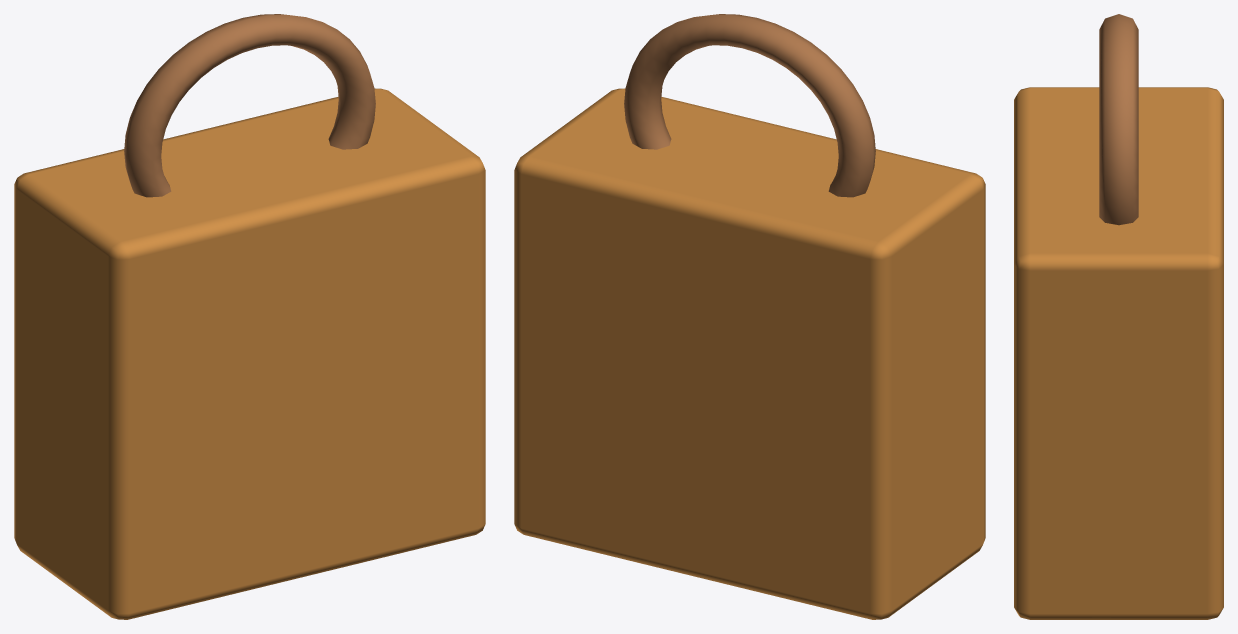
Rendered from wp-sac-de-courses-en-papier.glb.
3 views of the same model, side by side, from view 1: azimuth 30°, elevation 25°; view 2: azimuth 150°, elevation 25°; view 3: azimuth 270°, elevation 25° (orthographic). The views are drawn at different scales.
Parts seen in each view (by area): view 1: wp-sac-de-courses-en-papier; view 2: wp-sac-de-courses-en-papier; view 3: wp-sac-de-courses-en-papier.
Part boxes in pixels (x1=…): wp-sac-de-courses-en-papier: x1=14, y1=14, x2=485, y2=619; wp-sac-de-courses-en-papier: x1=514, y1=14, x2=985, y2=619; wp-sac-de-courses-en-papier: x1=1014, y1=14, x2=1223, y2=619.
Bounding box in the file's own units: 0.3 × 0.4 × 0.15.
